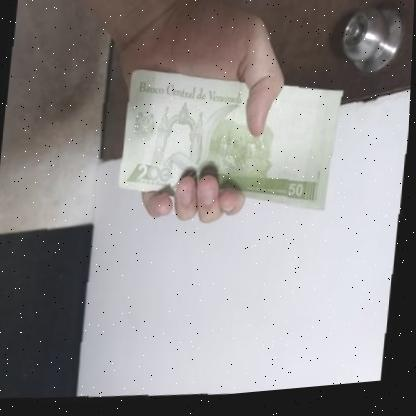fifty-back-vef: (115, 56, 347, 232)
